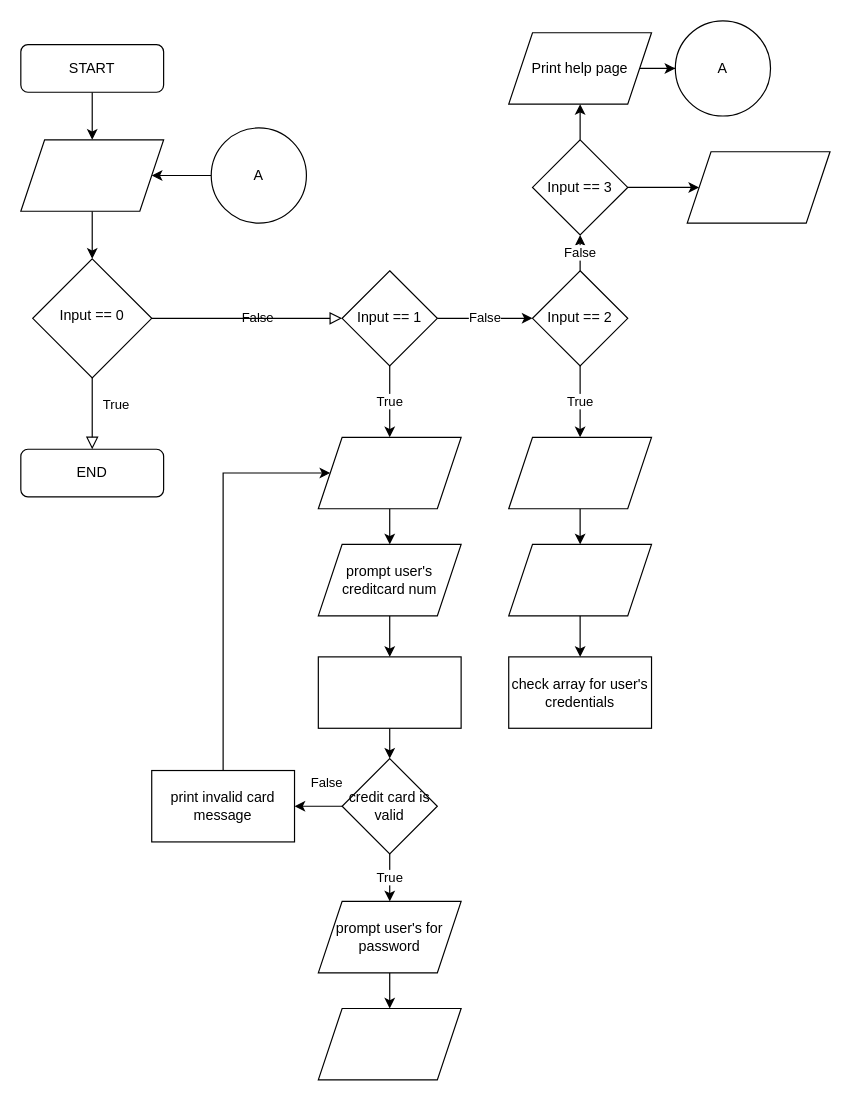
This 851x1101 diagram has some shape labels left out. Each missing label, with the centre of its shape:
Print homepage: (92,175)
Print invalid input message: (758,187)
prompt for user's name: (389,472)
prompt user to confirm credentials: (389,1043)
prompt user's name: (580,472)
prompt user's password: (580,579)
validate credit card number: (389,692)
